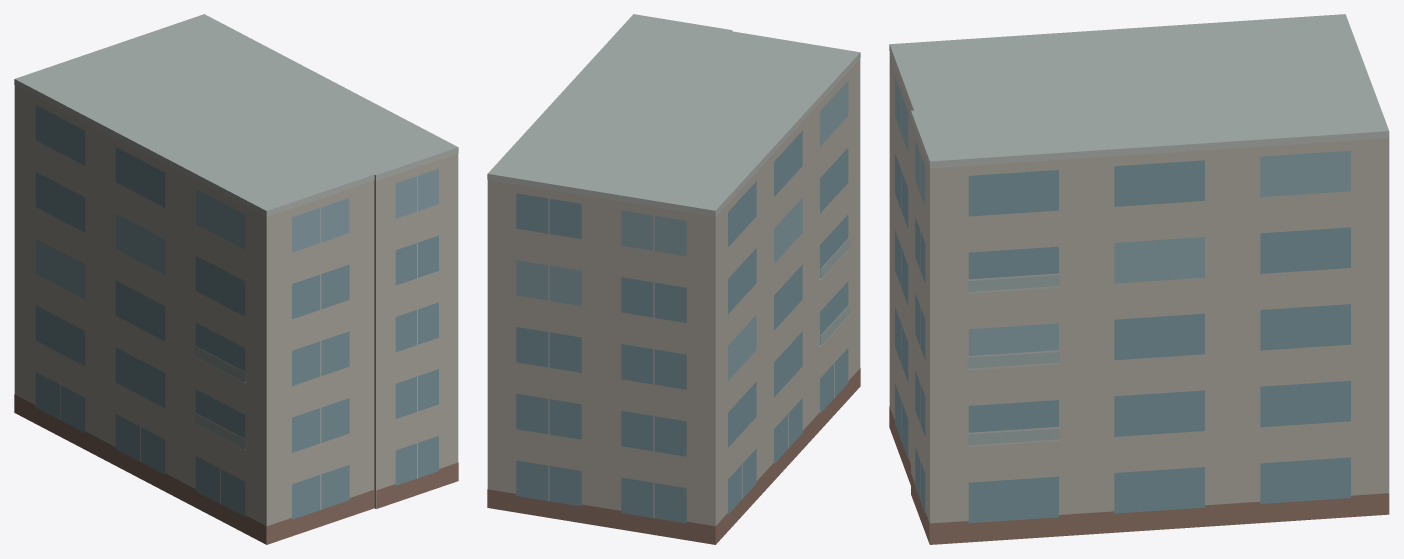
File: survey-upis-32976715.glb
3 views of the same model, side by side, from view 1: azimuth 30°, elevation 25°; view 2: azimuth 150°, elevation 25°; view 3: azimuth 270°, elevation 25° (orthographic). The views are drawn at different scales.
Visible parts, largest first — view 1: survey-upis-32976715.tmp; view 2: survey-upis-32976715.tmp; view 3: survey-upis-32976715.tmp.
Part boxes in pixels (x1,y1,x2,y2): survey-upis-32976715.tmp: (14, 14, 458, 544); survey-upis-32976715.tmp: (487, 14, 860, 544); survey-upis-32976715.tmp: (889, 14, 1389, 544).
Size of the model in its own units: 11.18 by 13.55 by 16.02.
